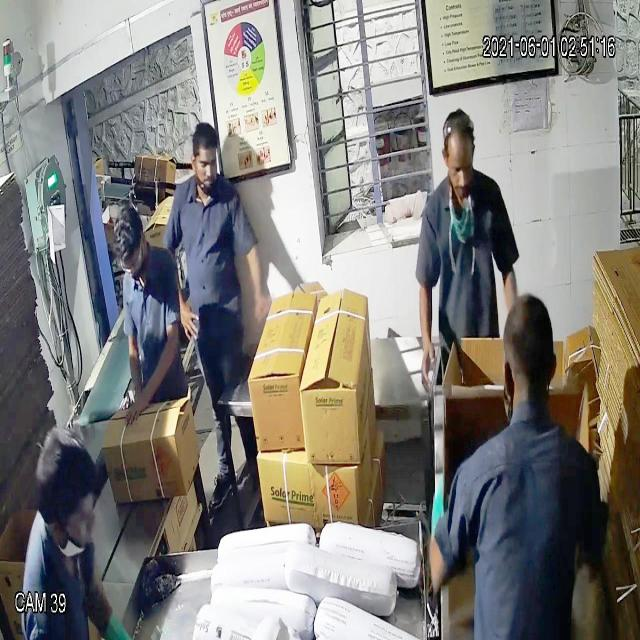glasses: (116, 244, 146, 279)
no-glass: (442, 151, 479, 185)
